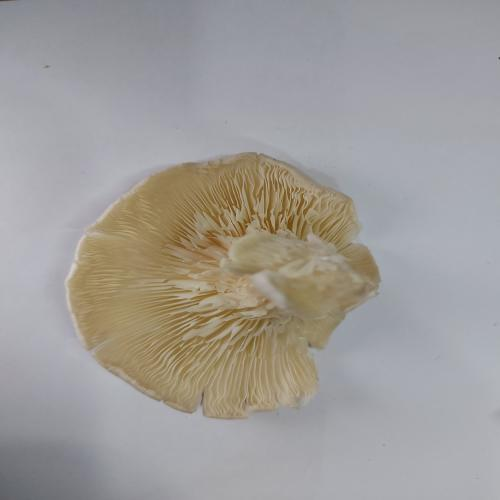Oyster Mushroom: (64, 151, 381, 420)
